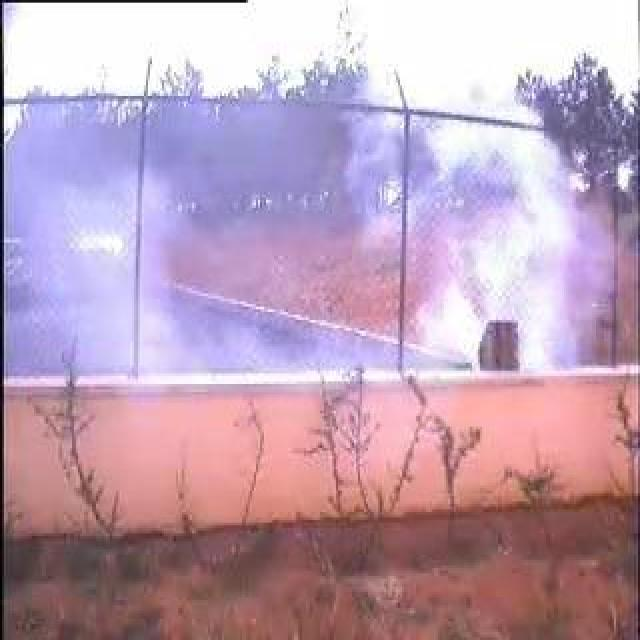Smoke: (65, 113, 591, 364)
